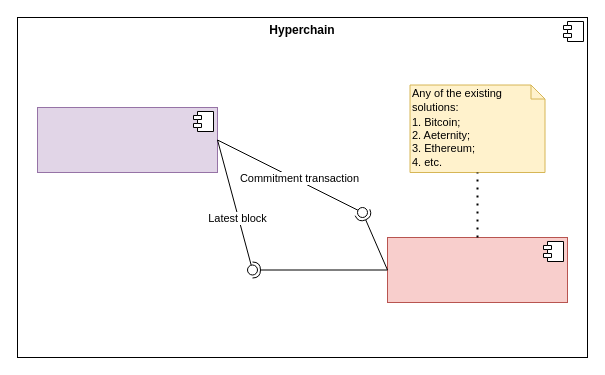
This 605x375 diagram has some shape labels left out. Each missing label, with the box of its shape:
Child chain: (36, 106, 218, 172)
Parent chain (PoW): (386, 236, 568, 302)
